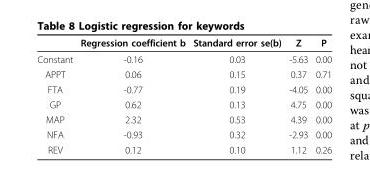table: (36, 36, 331, 154)
table column: (76, 36, 188, 154), (188, 36, 284, 154), (36, 36, 76, 154), (284, 36, 311, 154), (311, 36, 331, 154)
table column header: (36, 36, 331, 50)
table row: (36, 50, 331, 66), (36, 66, 331, 81), (36, 81, 331, 96), (36, 96, 331, 111), (36, 111, 331, 126), (36, 126, 331, 141), (36, 36, 331, 50), (36, 141, 331, 154)
